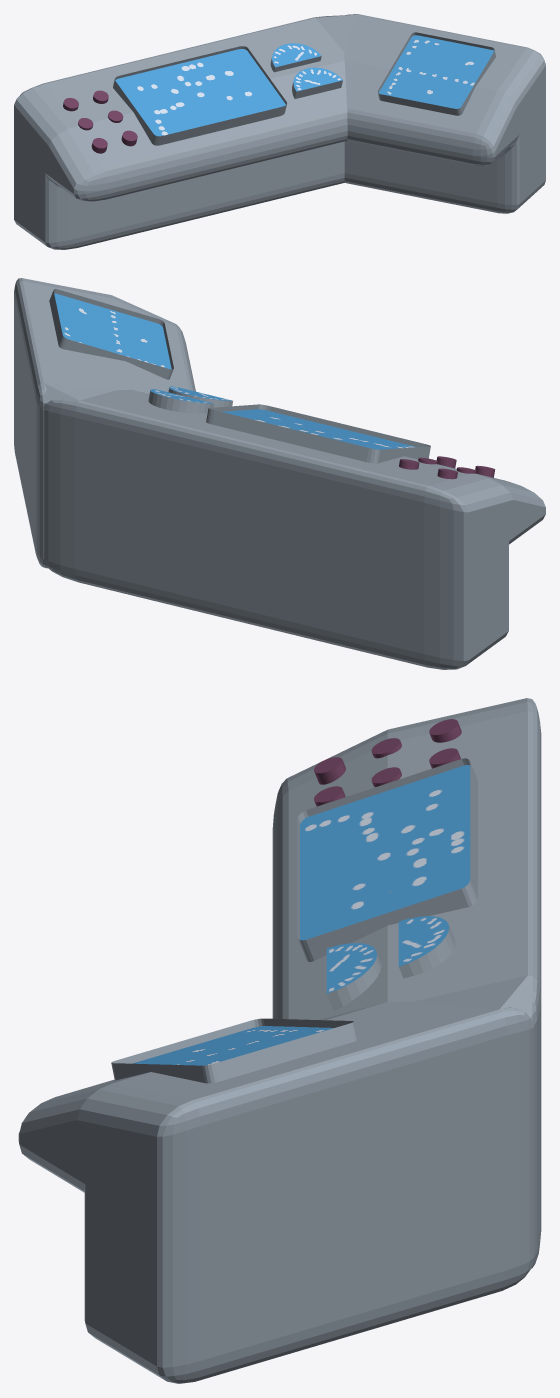
Rendered from Navigation-panel2.glb.
3 views of the same model, one above another, from view 1: azimuth 30°, elevation 25°; view 2: azimuth 150°, elevation 25°; view 3: azimuth 270°, elevation 25° (orthographic). The views are drawn at different scales.
Parts seen in each view (by area): view 1: Cylinder.006; view 2: Cylinder.006; view 3: Cylinder.006.
Part boxes in pixels (<box>): Cylinder.006: <box>14,14,545,249</box>; Cylinder.006: <box>14,278,545,669</box>; Cylinder.006: <box>18,698,541,1383</box>.
Bounding box in the file's own units: 13.27 × 4.17 × 6.81.
1 material, 1 textured.
